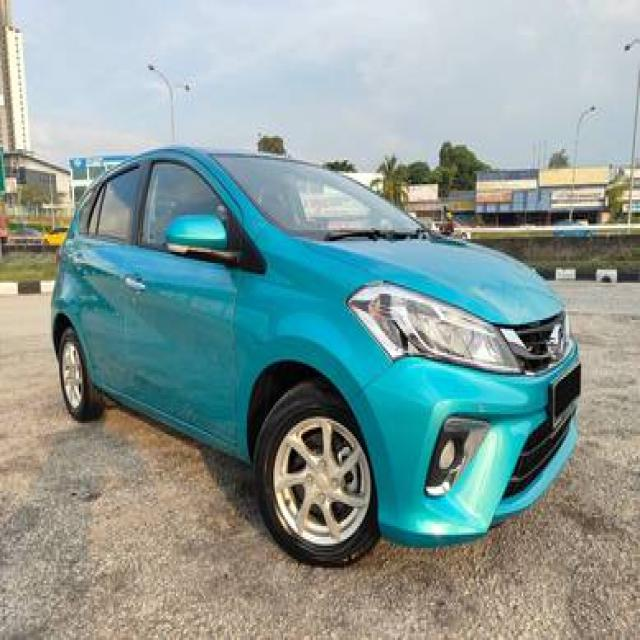PeroduaMyvi: (50, 140, 582, 568)
